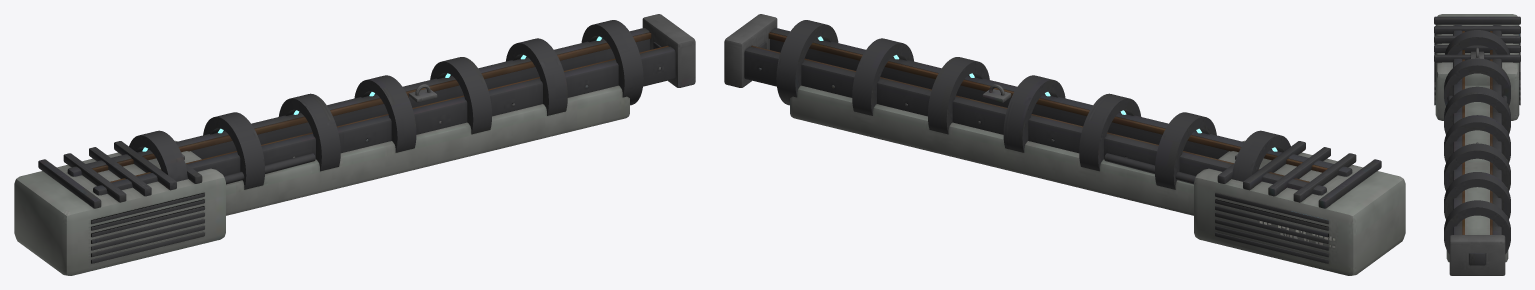
Rendered from exp_railgun.glb.
The picture shows the model from 3 angles, left to right: view 1: azimuth 30°, elevation 25°; view 2: azimuth 150°, elevation 25°; view 3: azimuth 270°, elevation 25°; orthographic projection. The views are drawn at different scales.
Parts seen in each view (by area): view 1: exp_railgun; view 2: exp_railgun; view 3: exp_railgun.
Part boxes in pixels (bbox=[...]): exp_railgun: bbox=[14, 14, 695, 275]; exp_railgun: bbox=[724, 14, 1405, 275]; exp_railgun: bbox=[1434, 14, 1520, 275].
Bounding box in the file's own units: 1.02 × 0.145 × 0.155.
6 materials, 5 textured.
